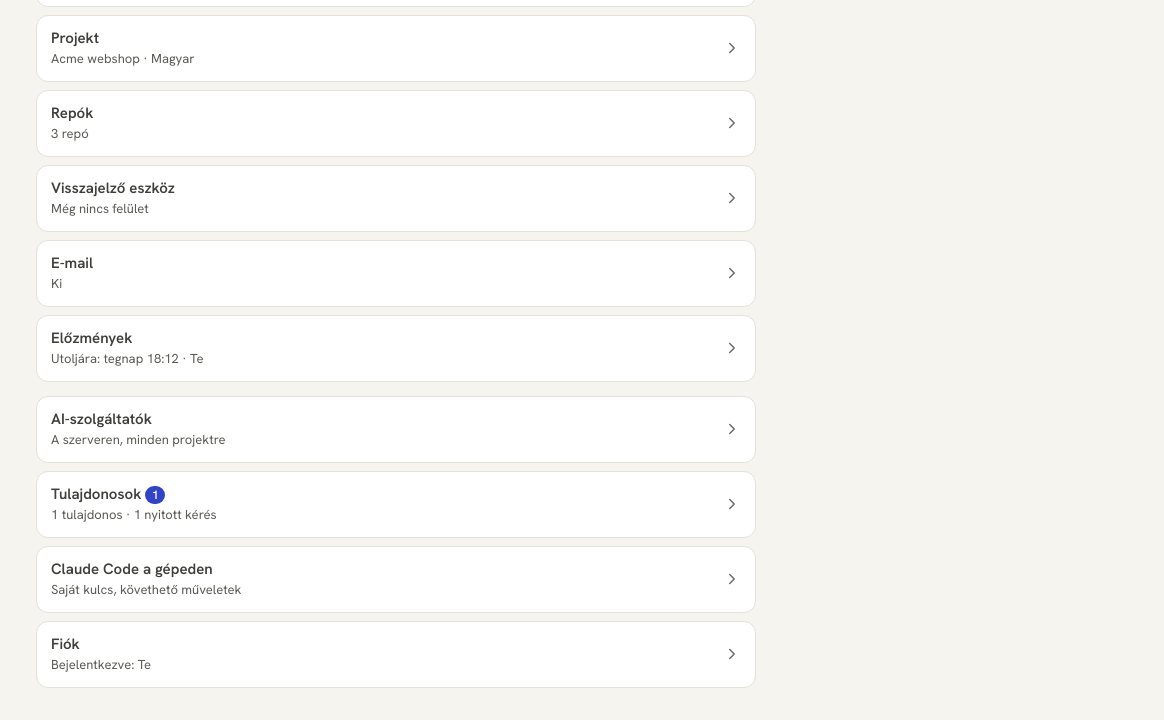
Test case: settings navigation › shows the open request count and owner summary to the host
(page scrolled)
Click the link "Tulajdonosok 1 1 tulajdonos · 1 nyitott kérés". click: (96, 494)
box: [36,471,756,538]
(page scrolled)
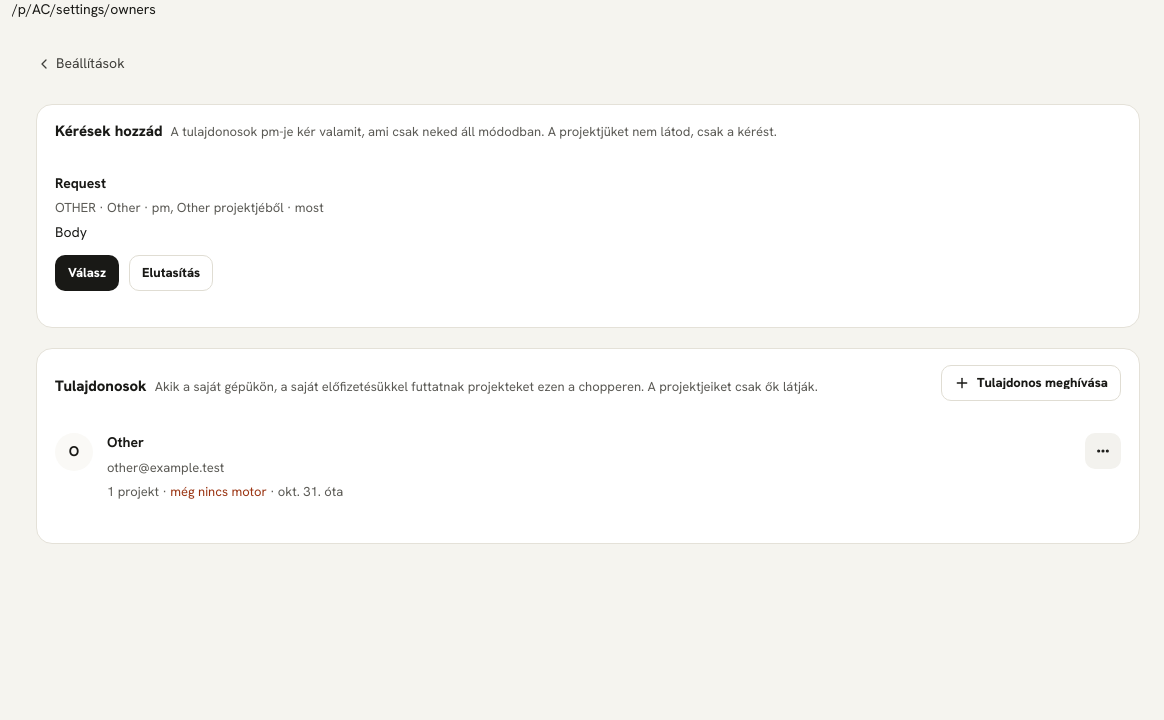
Now the heading "Tulajdonosok" is shown, box [55,376,147,397]
